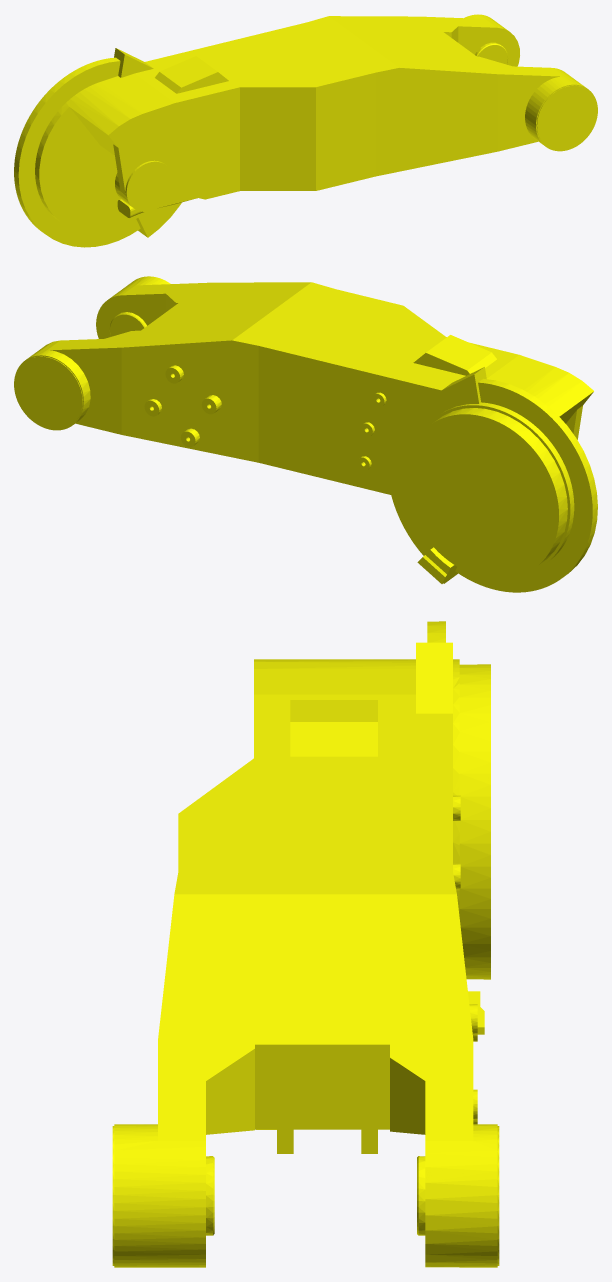
3 views of the same model, one above another, from view 1: azimuth 30°, elevation 25°; view 2: azimuth 150°, elevation 25°; view 3: azimuth 270°, elevation 25° (orthographic). The views are drawn at different scales.
Parts seen in each view (by area): view 1: node; view 2: node; view 3: node.
Boxes of the visible parts, x1,y1,x2,y2 form: node: [14, 14, 597, 247]; node: [14, 276, 597, 592]; node: [112, 621, 499, 1267].
Bounding box in the file's own units: 1373 × 494 × 459.
